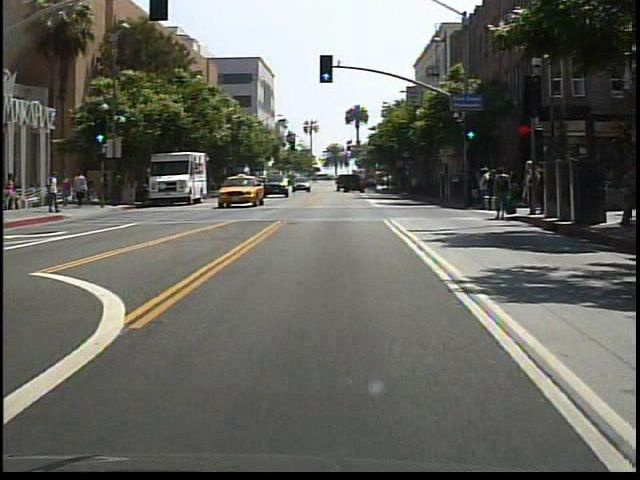person: (490, 165, 514, 224), (47, 168, 64, 216), (75, 168, 92, 209), (4, 174, 22, 212), (62, 174, 75, 208)
